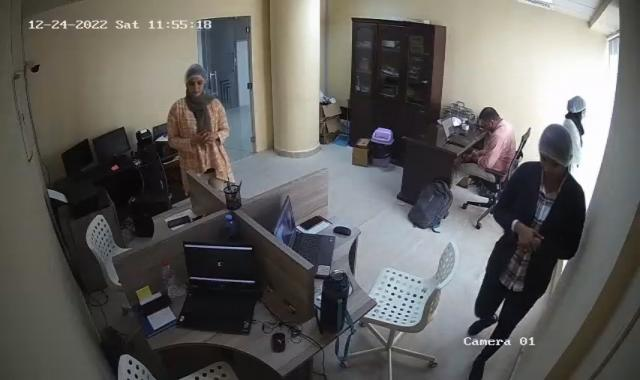hairnet: (539, 123, 574, 181), (180, 64, 204, 95), (568, 94, 588, 122)
no_hairnet: (477, 107, 501, 134)
